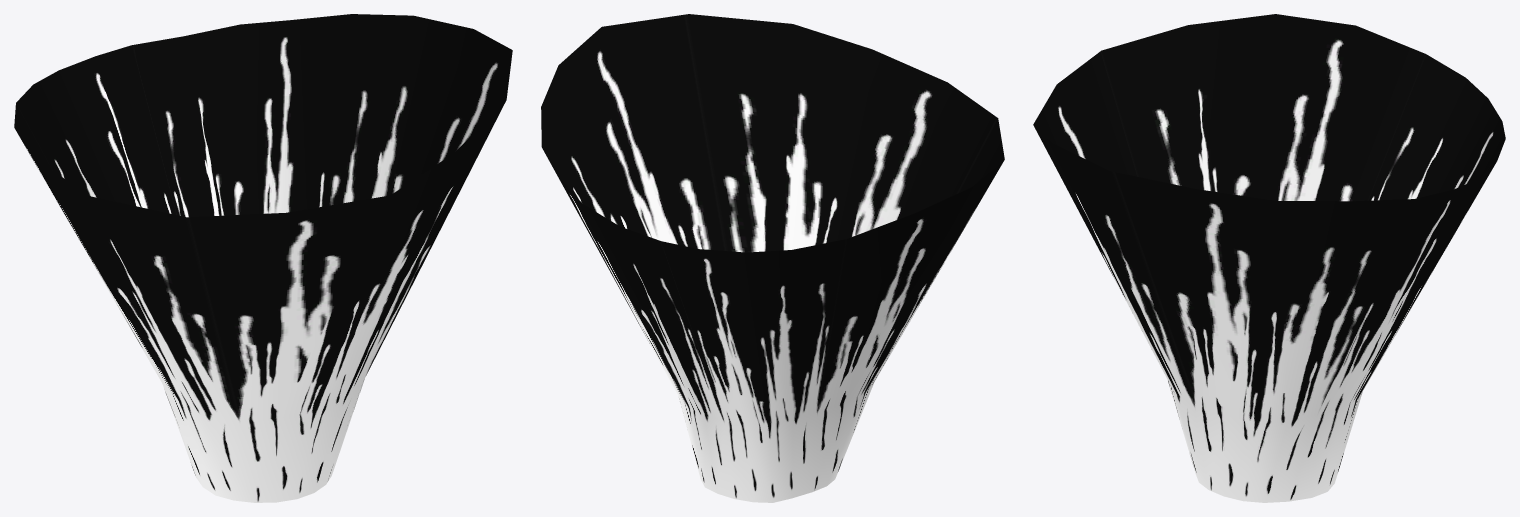
The model's file is Mesh_Splash07.obj.
3 views of the same model, side by side, from view 1: azimuth 30°, elevation 25°; view 2: azimuth 150°, elevation 25°; view 3: azimuth 270°, elevation 25° (orthographic). The views are drawn at different scales.
Visible parts, largest first — view 1: Mesh_Splash07_M_Stylized_Splash03; view 2: Mesh_Splash07_M_Stylized_Splash03; view 3: Mesh_Splash07_M_Stylized_Splash03.
Part boxes in pixels (x1=…): Mesh_Splash07_M_Stylized_Splash03: x1=14, y1=14, x2=512, y2=502; Mesh_Splash07_M_Stylized_Splash03: x1=541, y1=14, x2=1004, y2=502; Mesh_Splash07_M_Stylized_Splash03: x1=1033, y1=14, x2=1505, y2=502.
Bounding box in the file's own units: 3.24 × 2.8 × 3.09.
1 material, 1 textured.
